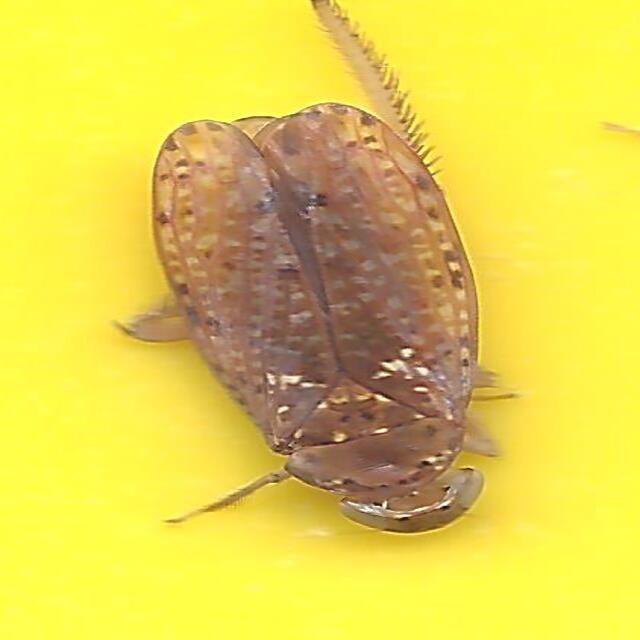Hemiptera: (152, 100, 488, 540)
